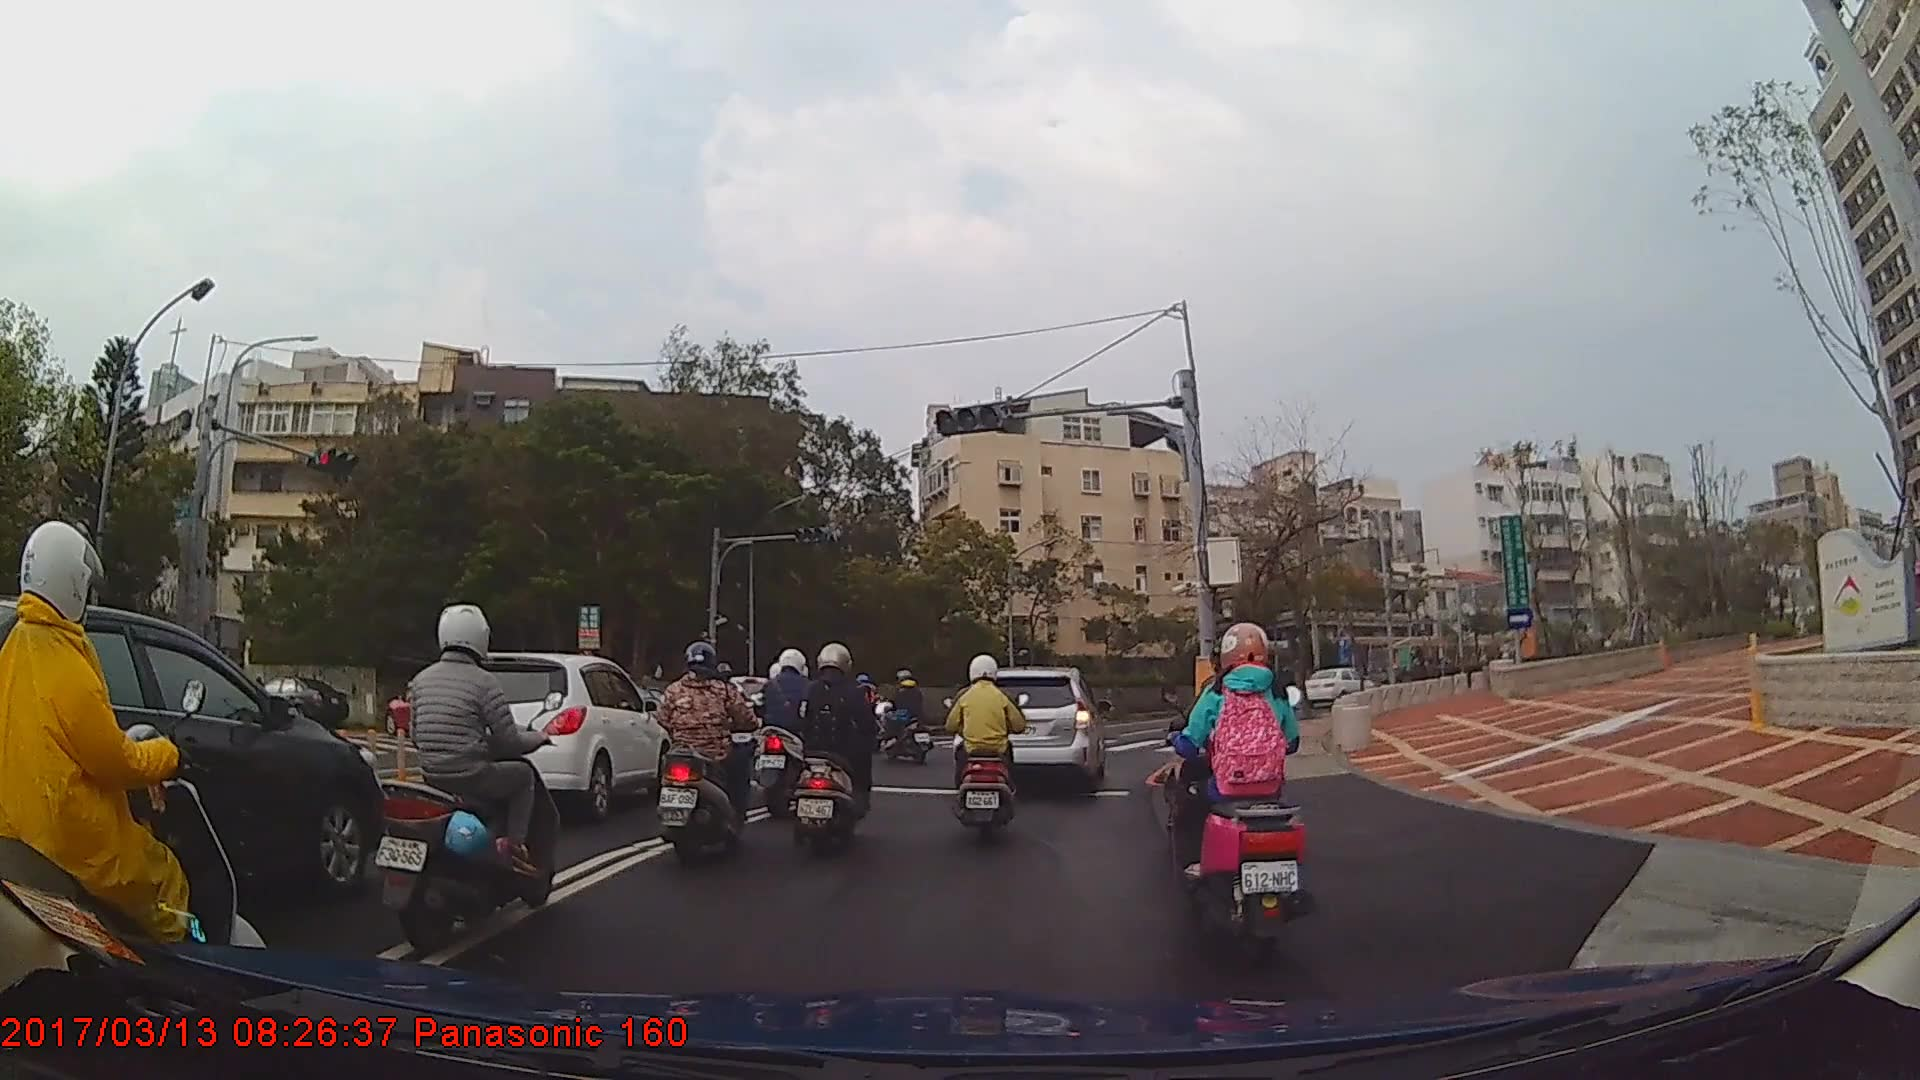rider: (1, 523, 270, 1033), (378, 603, 567, 954), (1170, 623, 1308, 941), (650, 642, 766, 869), (785, 642, 882, 857), (940, 657, 1032, 839), (752, 646, 823, 816), (748, 666, 804, 802), (868, 669, 933, 768)
vehicle: (0, 597, 385, 938), (429, 650, 673, 820), (958, 667, 1106, 795), (245, 676, 349, 732), (1297, 666, 1376, 704)
